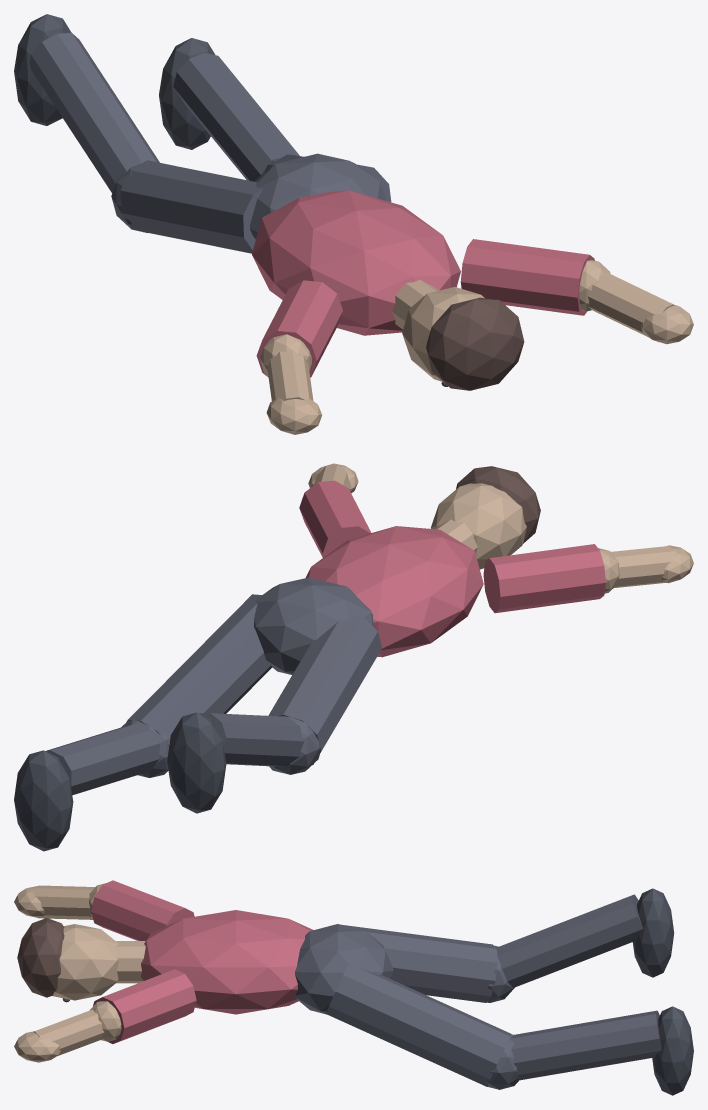
3 renders of one model, top to bottom at view 1: azimuth 30°, elevation 25°; view 2: azimuth 150°, elevation 25°; view 3: azimuth 270°, elevation 25°, orthographic. The views are drawn at different scales.
Parts seen in each view (by area): view 1: world; view 2: world; view 3: world.
Boxes of the visible parts, x1=… form: world: x1=14, y1=14, x2=693, y2=434; world: x1=14, y1=463, x2=693, y2=851; world: x1=14, y1=880, x2=693, y2=1095.
Size of the model in its own units: 1.17 by 0.4905 by 2.07.
